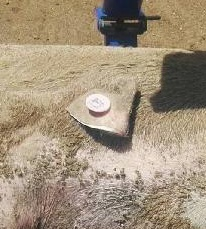text: (74, 77, 119, 127)
